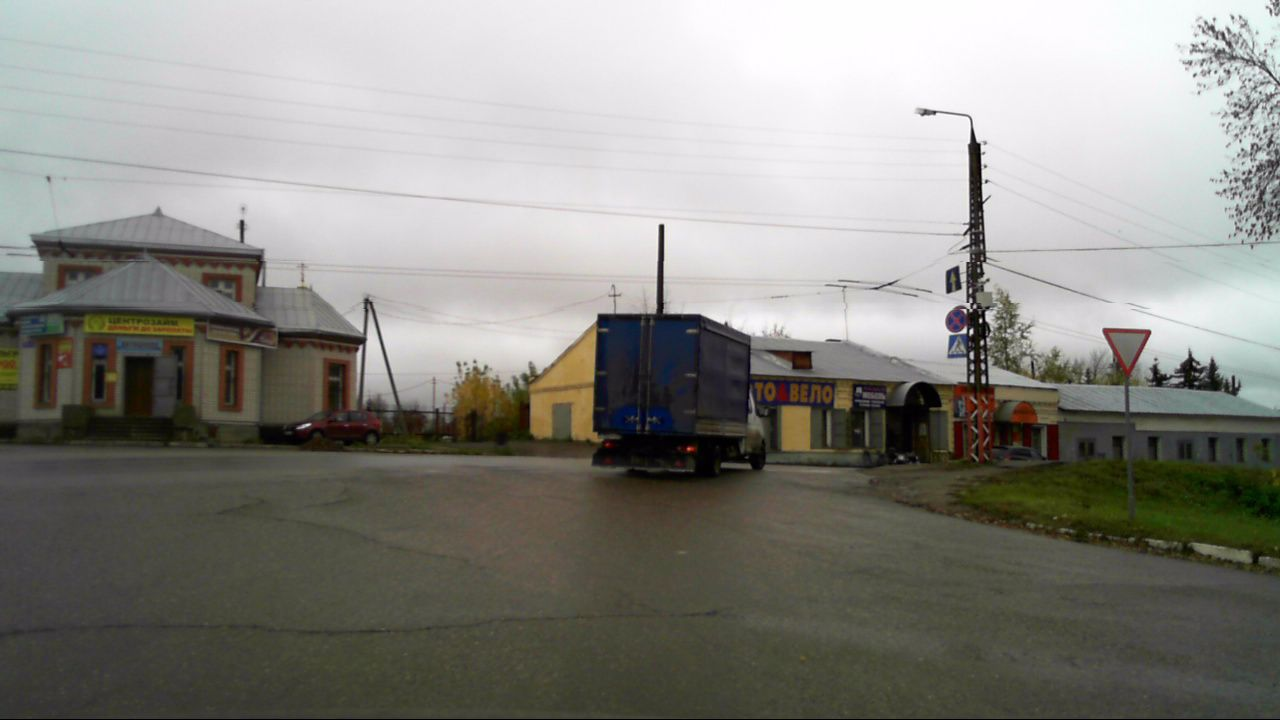No Parking: (944, 309, 966, 332)
